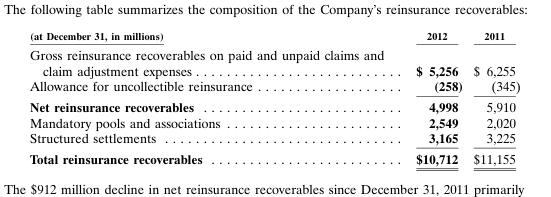table: (29, 29, 519, 166)
table column: (29, 29, 399, 166), (399, 29, 467, 166), (467, 29, 519, 166)
table column header: (29, 29, 519, 44)
table row: (29, 44, 519, 78), (29, 147, 519, 166), (29, 78, 519, 96), (29, 96, 519, 114), (29, 129, 519, 147), (29, 29, 519, 44), (29, 114, 519, 129)
